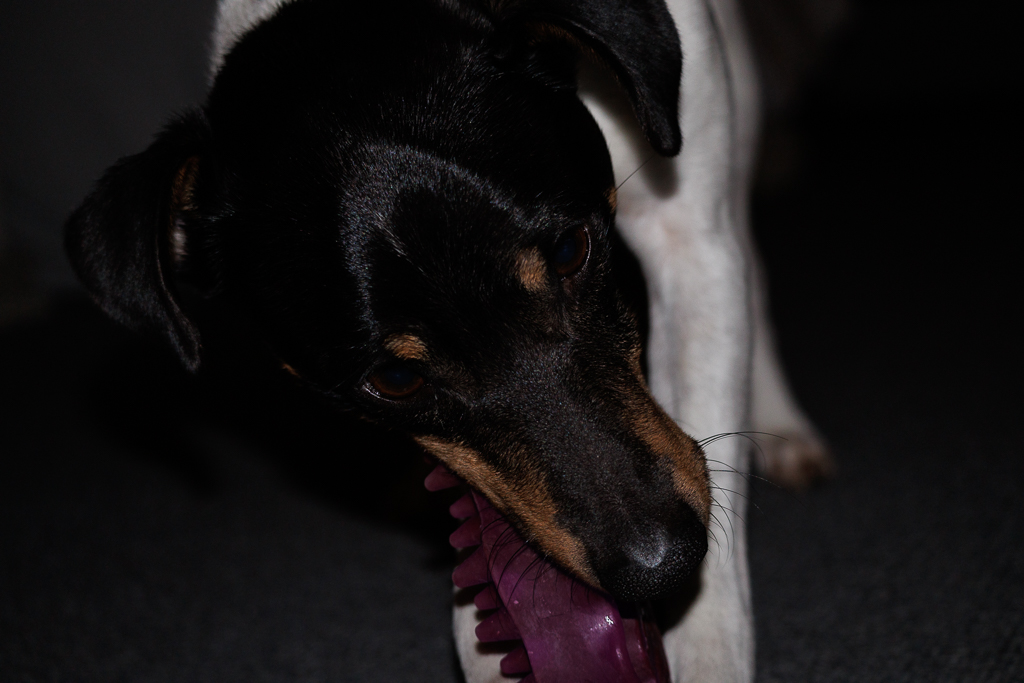Dog: (53, 0, 873, 683)
